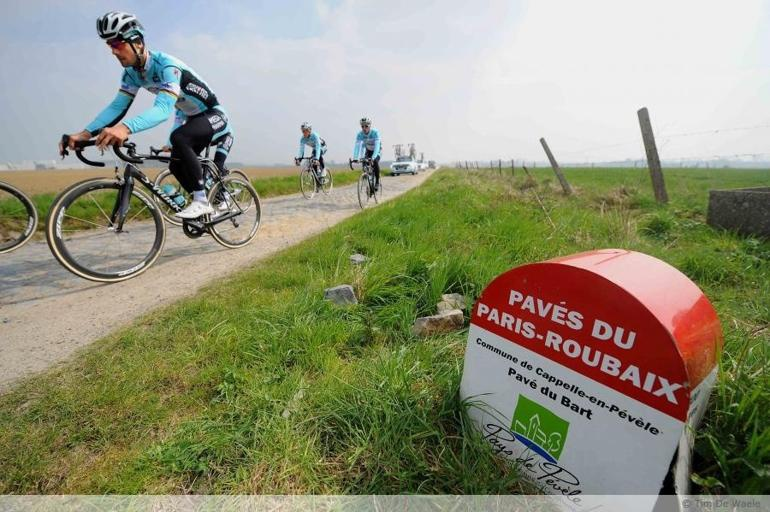non-vehicle: (45, 134, 260, 282), (149, 139, 255, 227), (0, 180, 38, 254), (349, 158, 382, 209), (295, 156, 332, 200)
